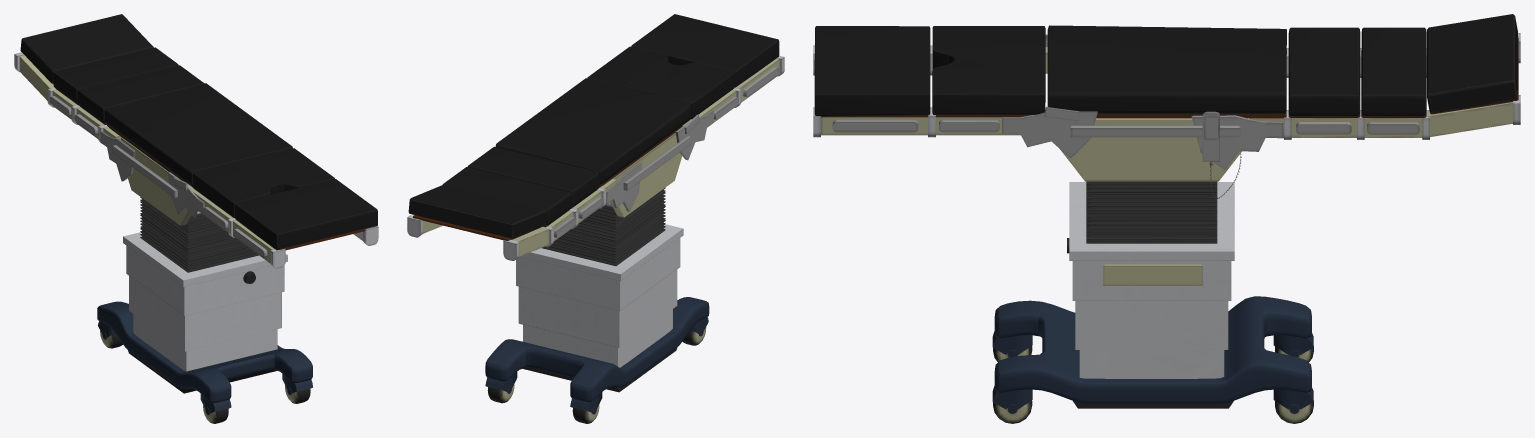
The model's file is stretcher.fbx.
3 renders of one model, left to right at view 1: azimuth 30°, elevation 25°; view 2: azimuth 150°, elevation 25°; view 3: azimuth 270°, elevation 25°, orthographic. The views are drawn at different scales.
Visible parts, largest first — view 1: strecher; view 2: strecher; view 3: strecher.
Part boxes in pixels (x1=…): strecher: x1=14, y1=14, x2=378, y2=423; strecher: x1=407, y1=14, x2=784, y2=423; strecher: x1=813, y1=14, x2=1520, y2=423.
Bounding box in the file's own units: 77.61 × 161 × 298.
1 material, 1 textured.
